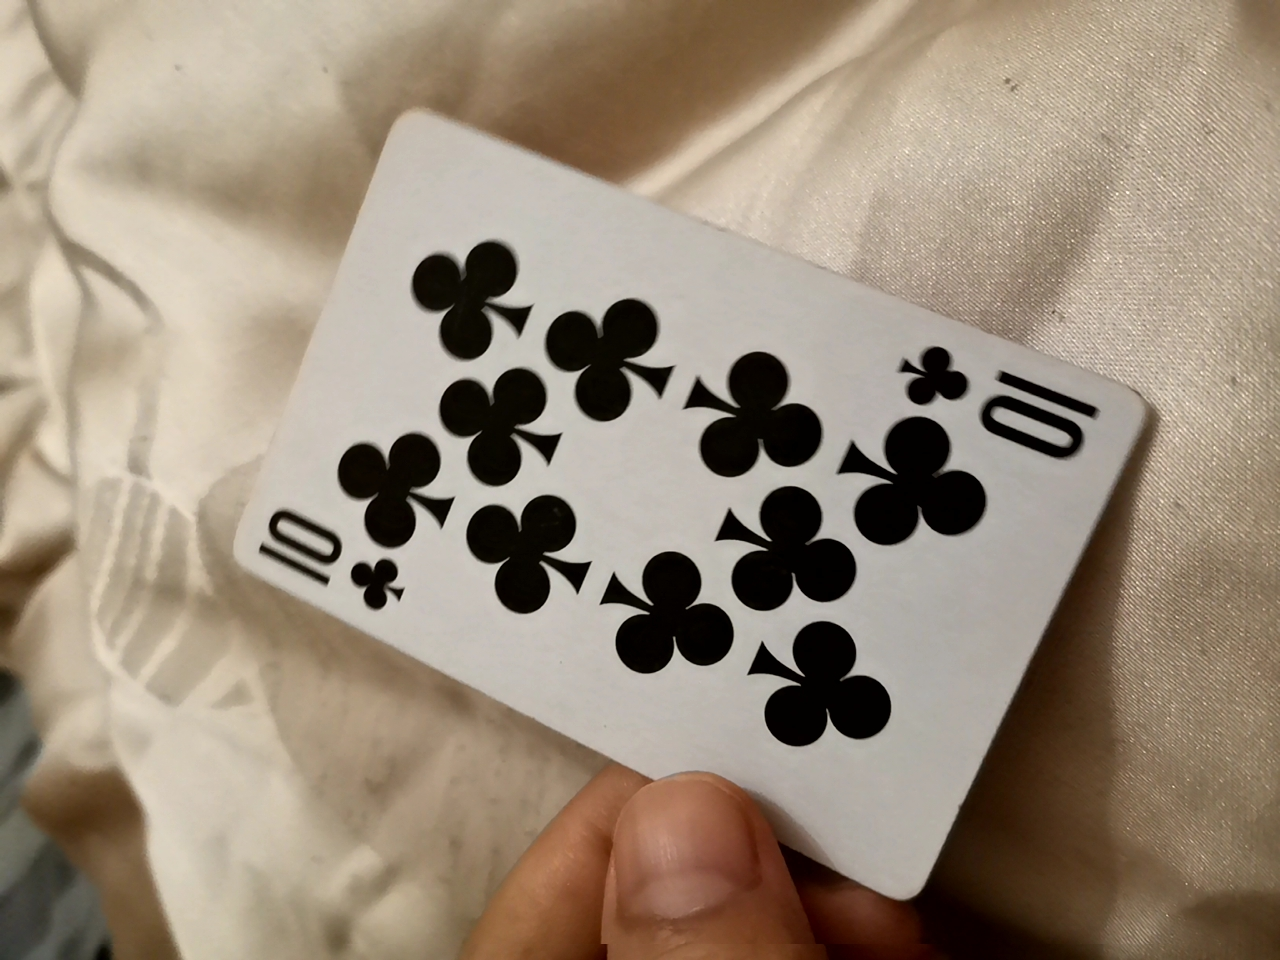mh 10: (216, 121, 1146, 891)
